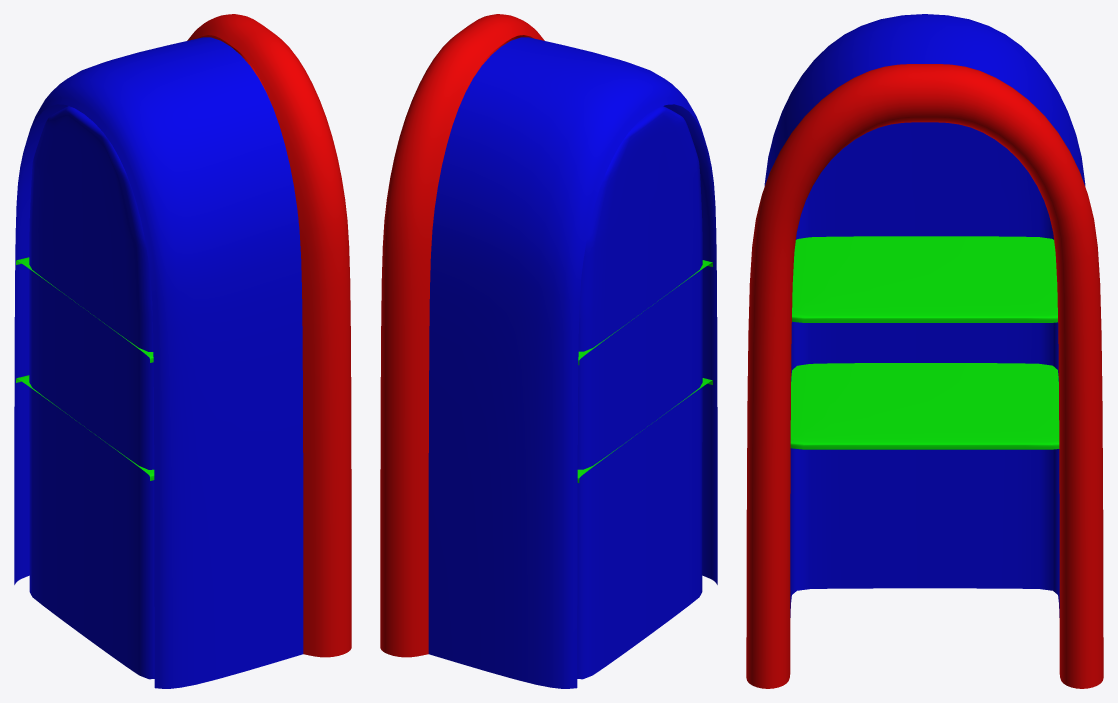
Rendered from Aufbewahrungsschrank_3_high.fbx.
3 views of the same model, side by side, from view 1: azimuth 30°, elevation 25°; view 2: azimuth 150°, elevation 25°; view 3: azimuth 270°, elevation 25° (orthographic). The views are drawn at different scales.
Parts seen in each view (by area): view 1: Aufbewahrungsschrank_3_high; view 2: Aufbewahrungsschrank_3_high; view 3: Aufbewahrungsschrank_3_high.
Part boxes in pixels (x1,y1,x2,y2): Aufbewahrungsschrank_3_high: (14,14,351,688); Aufbewahrungsschrank_3_high: (380,14,717,688); Aufbewahrungsschrank_3_high: (746,14,1103,688).
Bounding box in the file's own units: 0.6532 × 1.85 × 0.9793.
